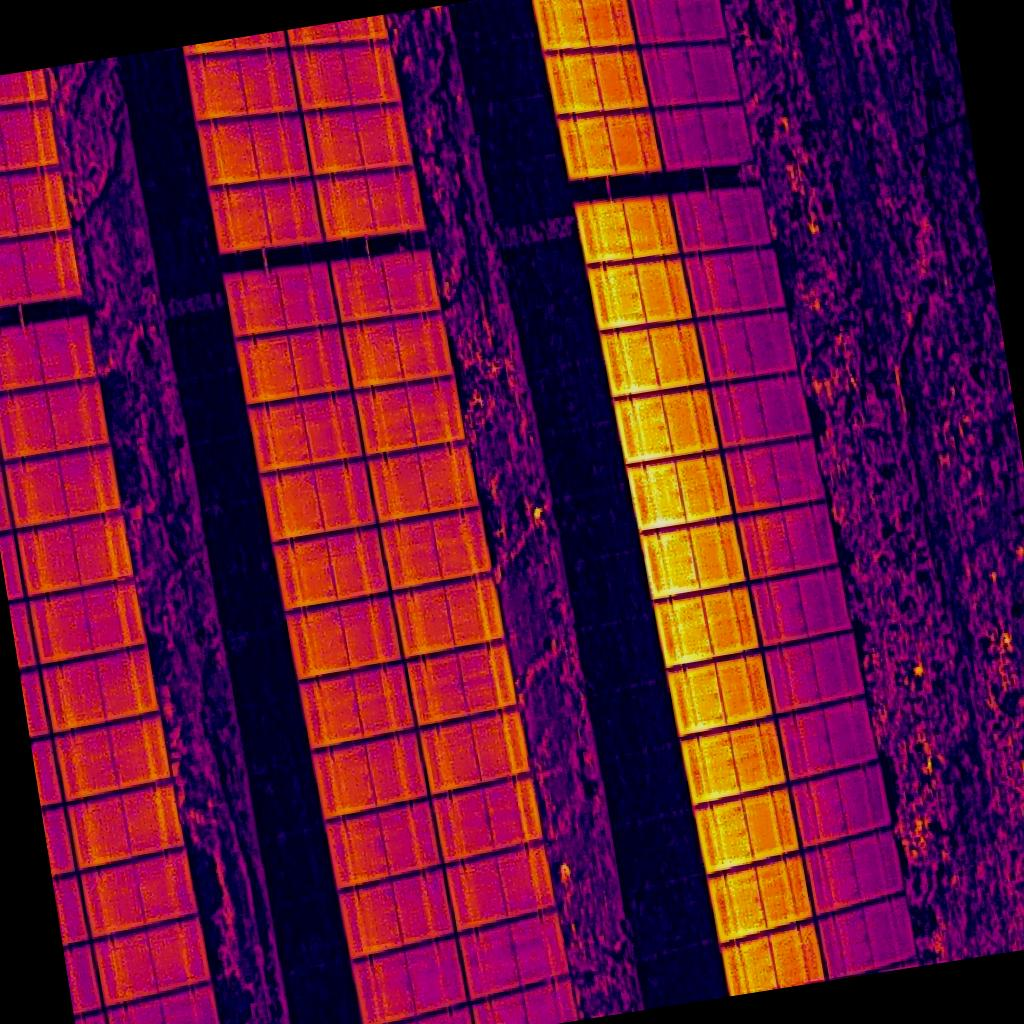panel: (1, 441, 122, 527), (460, 909, 570, 1001), (38, 646, 157, 730), (311, 735, 426, 818), (577, 194, 681, 260)
